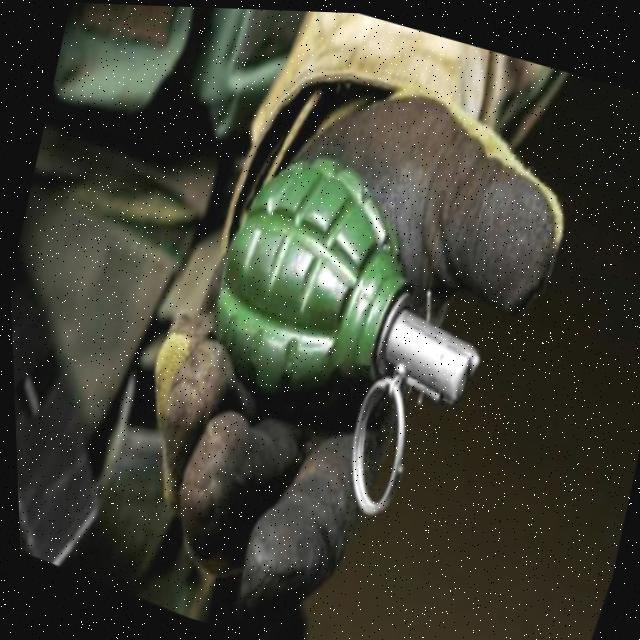grenade: (143, 107, 537, 547)
